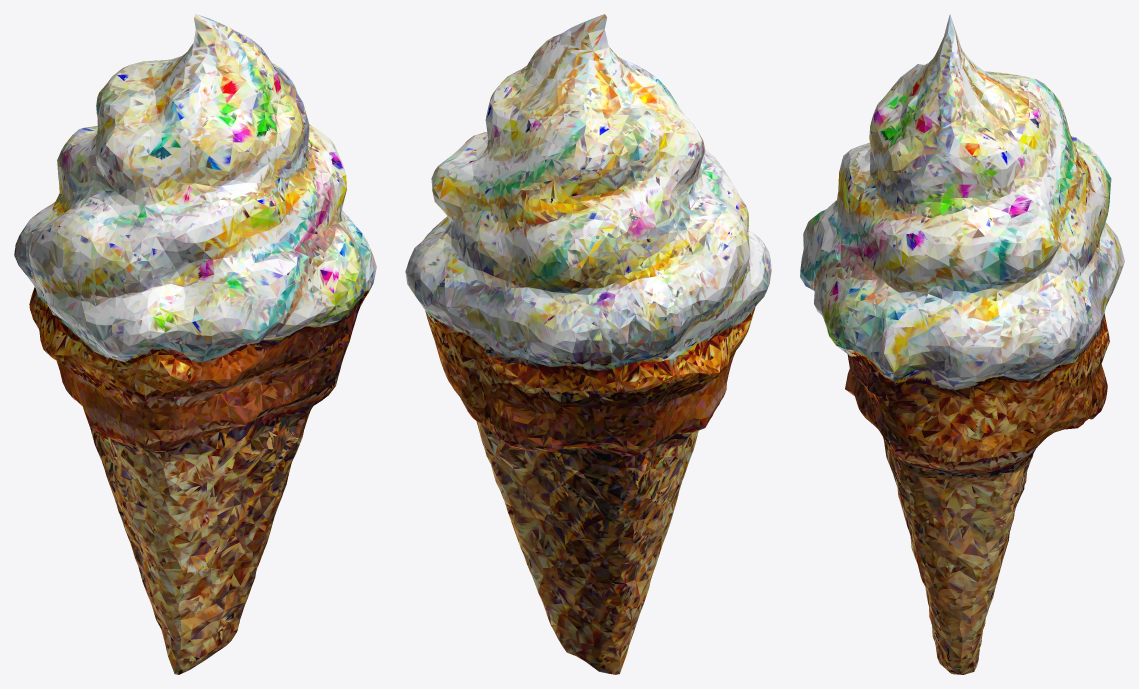
The model's file is icecream-scribble.glb.
3 views of the same model, side by side, from view 1: azimuth 30°, elevation 25°; view 2: azimuth 150°, elevation 25°; view 3: azimuth 270°, elevation 25° (orthographic).
Visible parts, largest first — view 1: extracted_mesh; view 2: extracted_mesh; view 3: extracted_mesh.
Boxes of the visible parts, box(x1,y1,x2,y2) form: extracted_mesh: box(14, 14, 376, 674); extracted_mesh: box(405, 14, 771, 674); extracted_mesh: box(800, 14, 1124, 674).
Size of the model in its own units: 0.4992 by 1.03 by 0.4591.
Materials: 1 (1 with a texture image).
